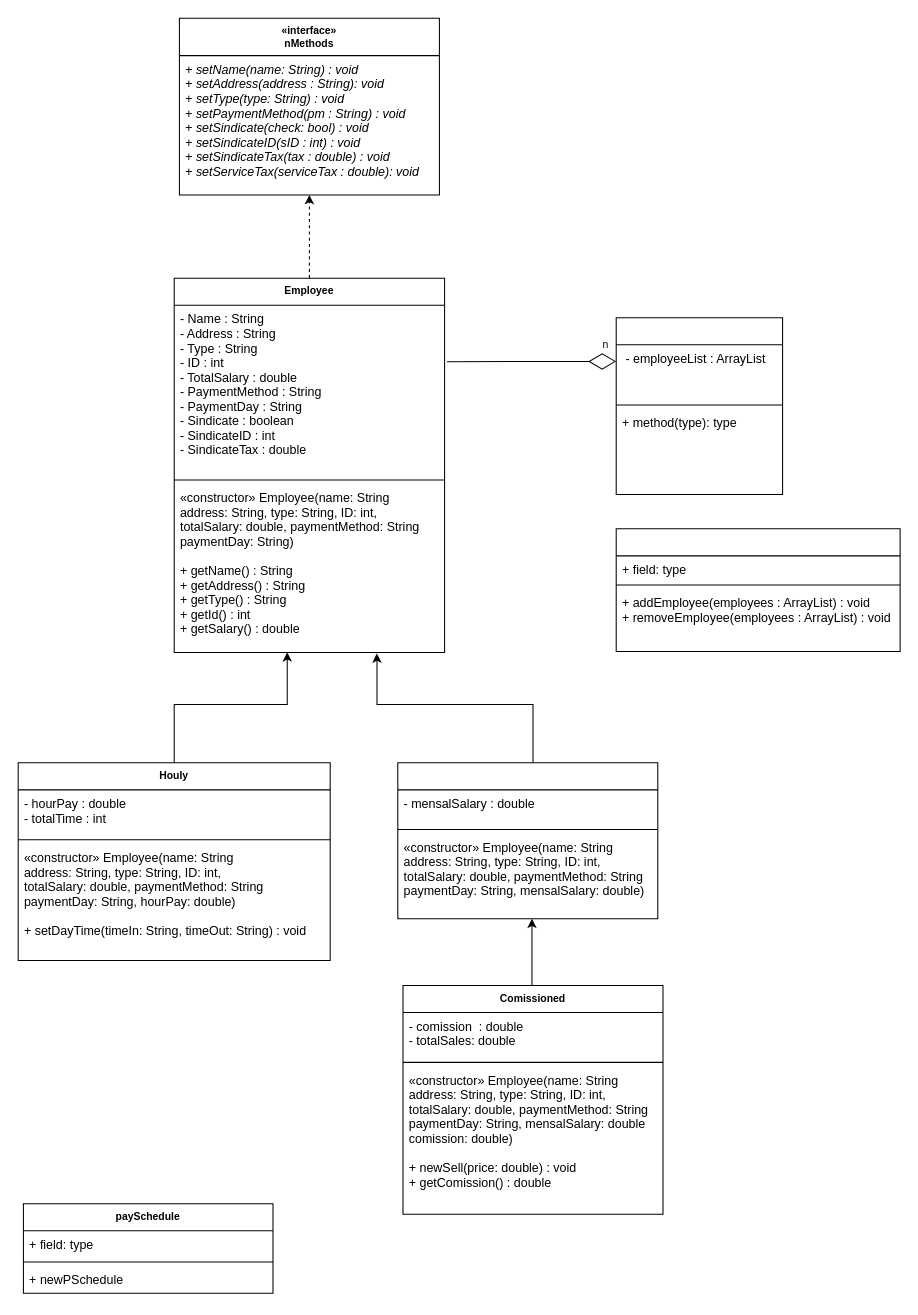
Image size: 918x1315. Some labels were removed from this diagram. Each missing label, with the box of its shape:
EmployeeManager: (615, 528, 900, 652)
Menu: (615, 317, 783, 495)
Salaried: (397, 762, 658, 919)
